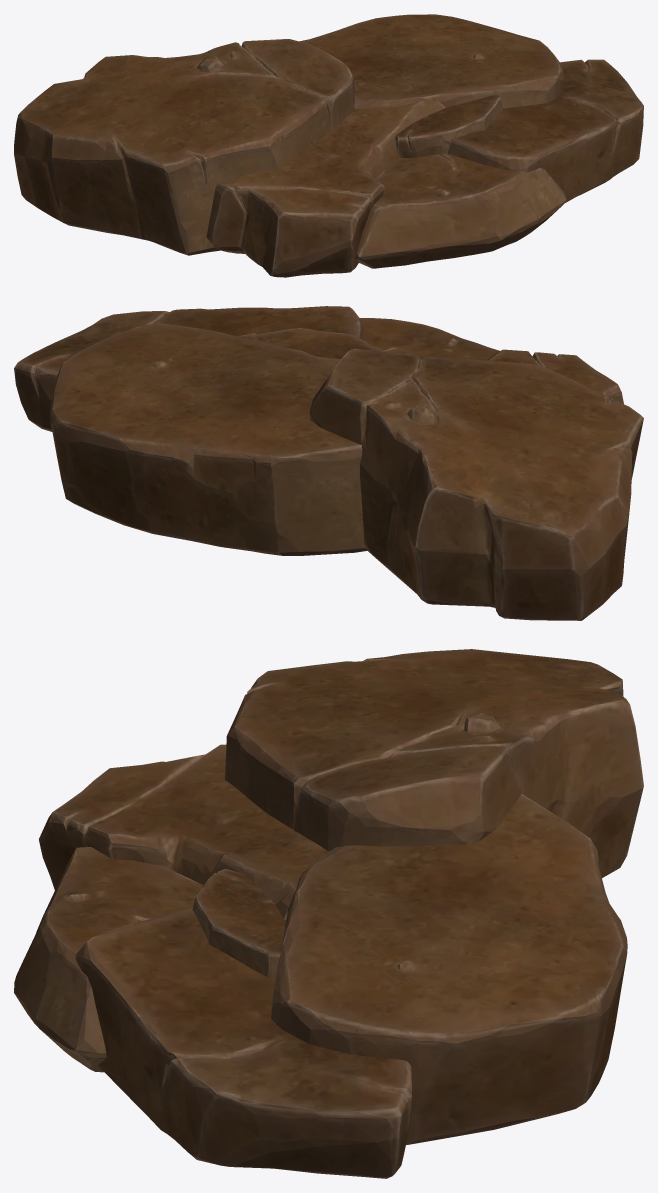
The picture shows the model from 3 angles, top to bottom: view 1: azimuth 30°, elevation 25°; view 2: azimuth 150°, elevation 25°; view 3: azimuth 270°, elevation 25°; orthographic projection. The views are drawn at different scales.
Parts seen in each view (by area): view 1: SM_Mining_Node_Medium_Clay_01_LOD0; view 2: SM_Mining_Node_Medium_Clay_01_LOD0; view 3: SM_Mining_Node_Medium_Clay_01_LOD0.
Boxes of the visible parts, x1,y1,x2,y2 form: SM_Mining_Node_Medium_Clay_01_LOD0: (14,14,643,277); SM_Mining_Node_Medium_Clay_01_LOD0: (14,306,643,620); SM_Mining_Node_Medium_Clay_01_LOD0: (14,649,643,1178).
Size of the model in its own units: 4.25 by 0.959 by 2.74.
